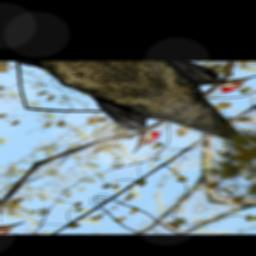Woodpecker: (57, 86, 178, 157)
